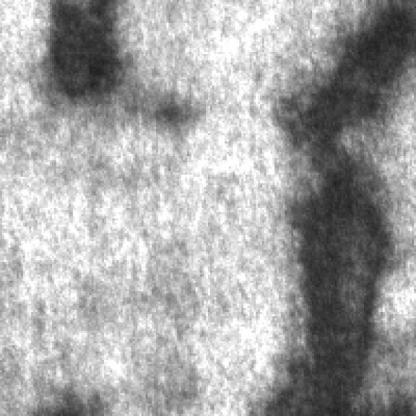patches: (264, 139, 406, 414), (281, 0, 416, 162), (48, 0, 129, 98)
